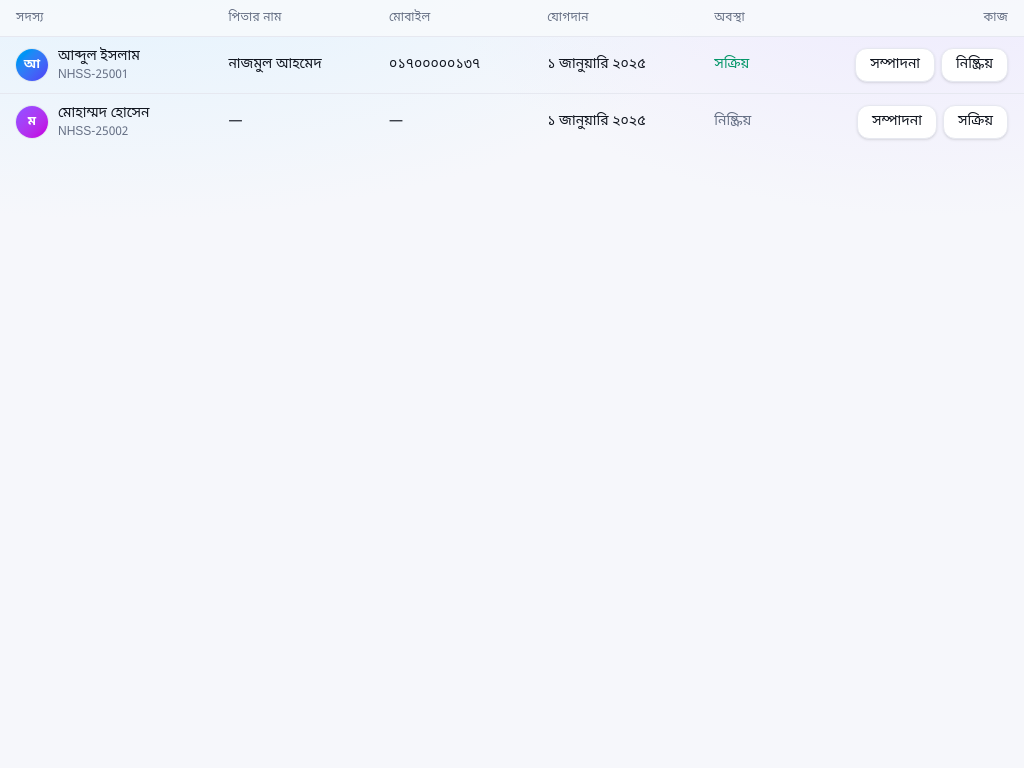
Scenario: admin members table › does nothing when the confirmation is dismissed
Click the button named "আব্দুল ইসলাম নিষ্ক্রিয় করুন": click(975, 65) [941,48,1008,82]
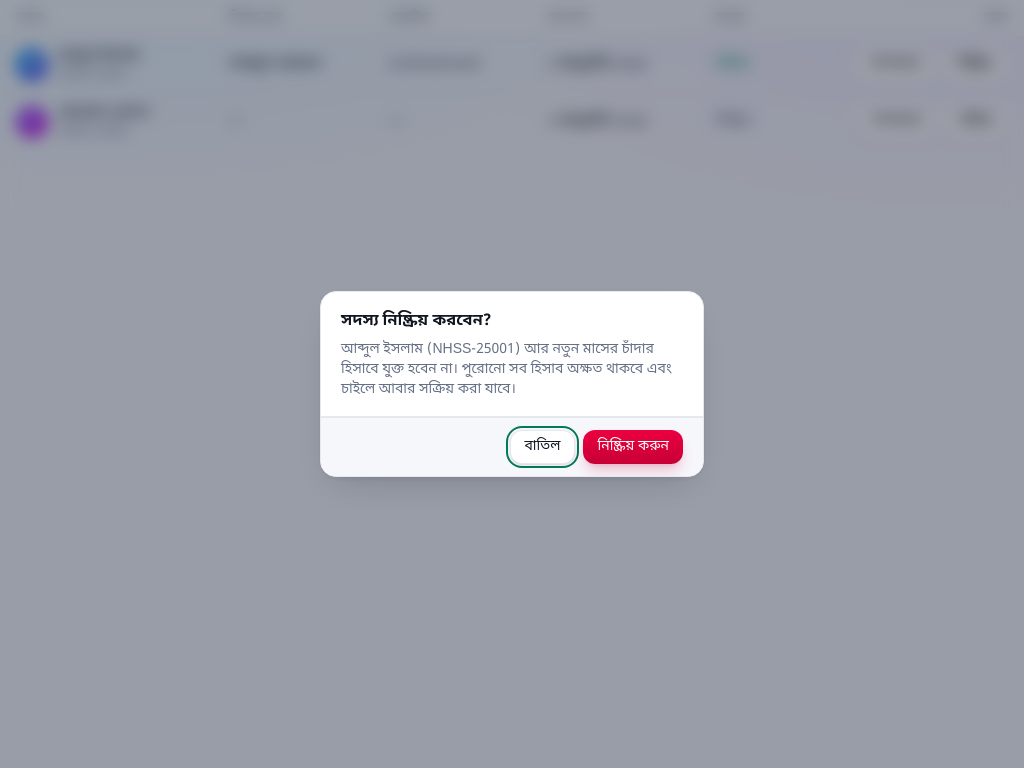
Click the button "বাতিল": click(542, 447) [510,430,575,464]
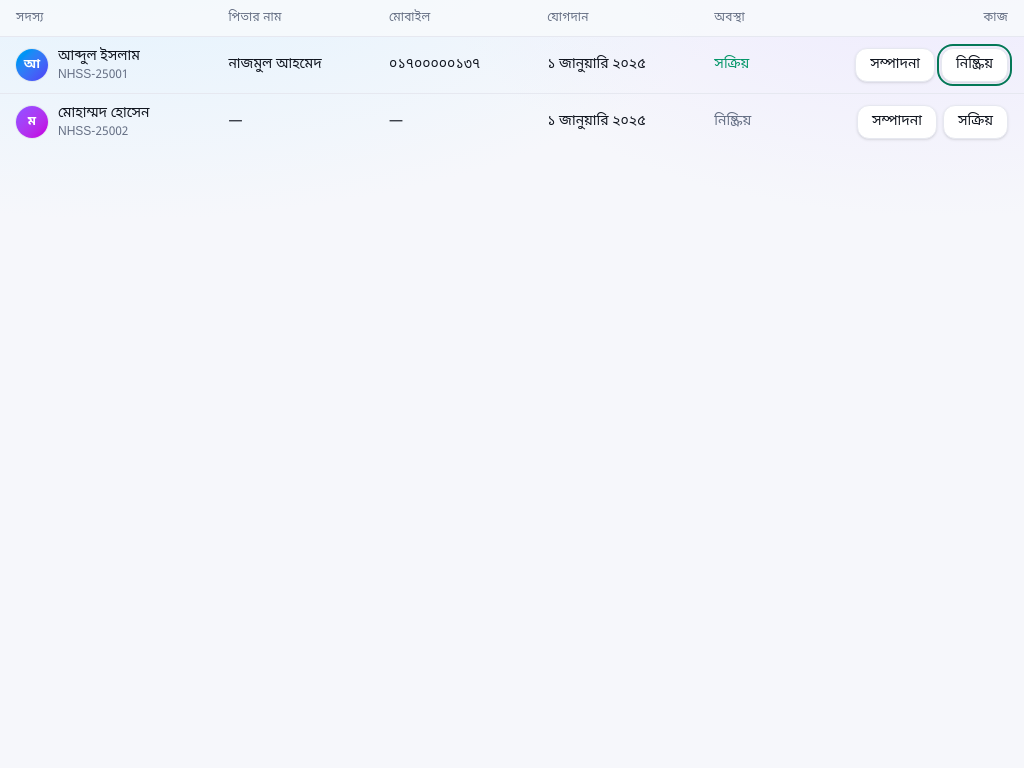
Expected: the dialog is gone
